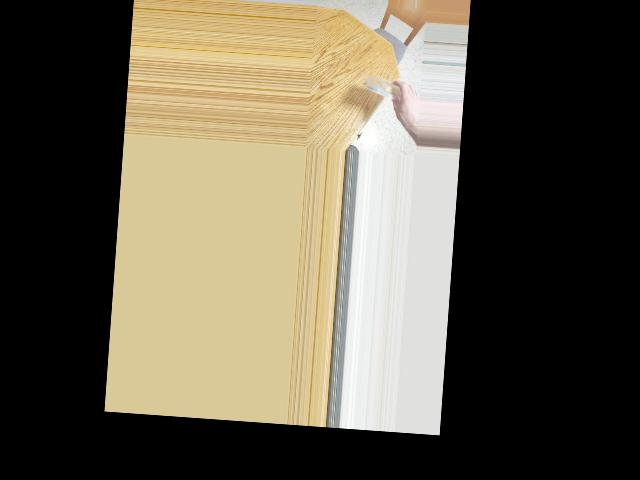cheese: (368, 71, 402, 102)
